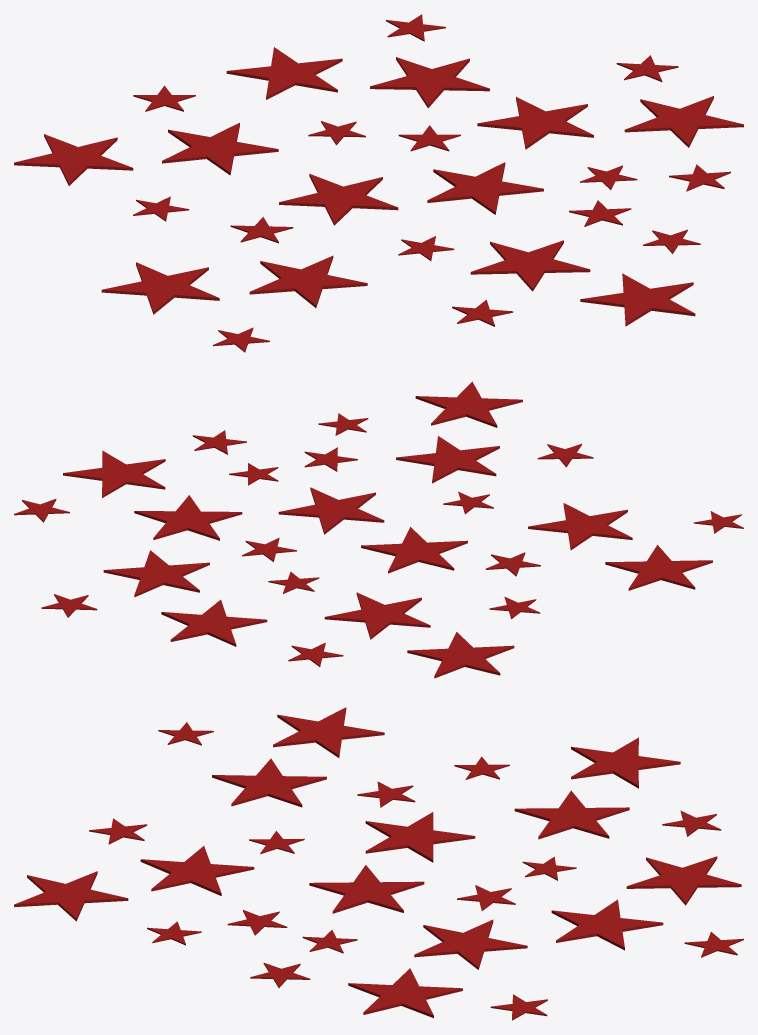
File: stars.fbx
The picture shows the model from 3 angles, top to bottom: view 1: azimuth 30°, elevation 25°; view 2: azimuth 150°, elevation 25°; view 3: azimuth 270°, elevation 25°; orthographic projection. The views are drawn at different scales.
Visible parts, largest first — view 1: stars; view 2: stars; view 3: stars.
Part boxes in pixels (x1,y1,x2,y2): stars: [14, 14, 743, 352]; stars: [14, 381, 743, 678]; stars: [14, 707, 743, 1020].
Bounding box in the file's own units: 172 × 0.678 × 170.
